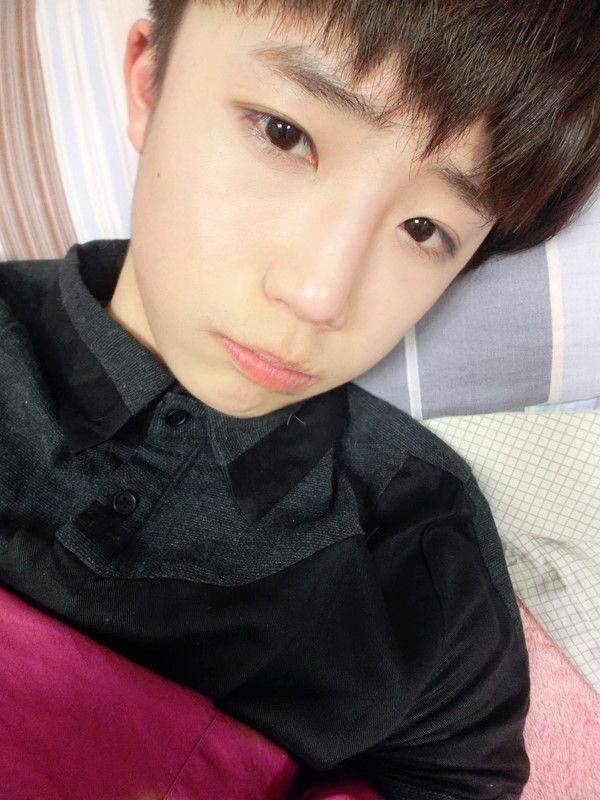person: (57, 11, 579, 703)
